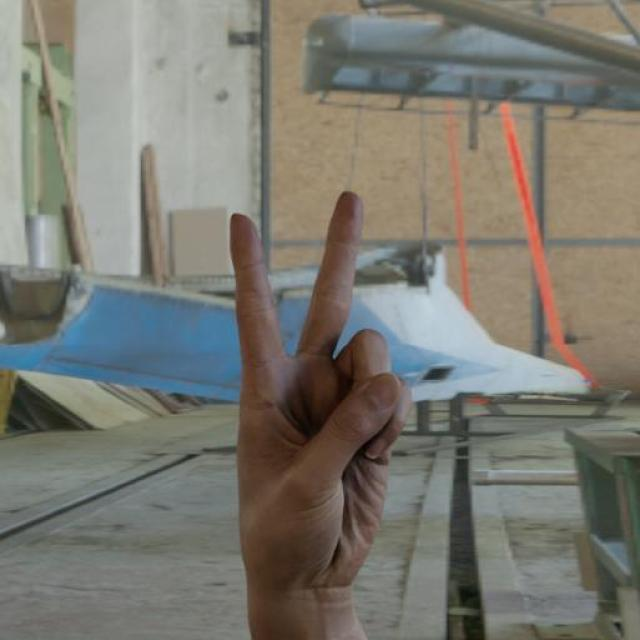V: (212, 184, 408, 595)
